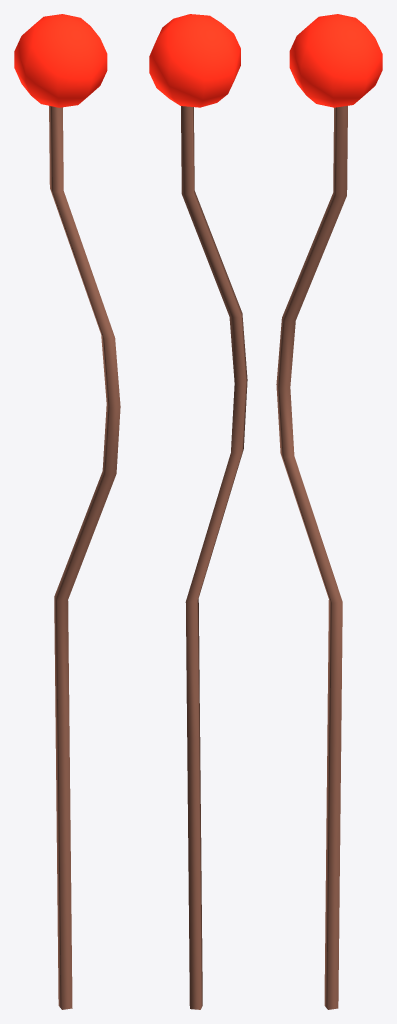
File: SpinMushR2_l.fbx
3 renders of one model, left to right at view 1: azimuth 90°, elevation 25°; view 2: azimuth 150°, elevation 25°; view 3: azimuth 270°, elevation 25°, orthographic.
Visible parts, largest first — view 1: BezierCurve.005; view 2: BezierCurve.005; view 3: BezierCurve.005.
Part boxes in pixels (<box>): BezierCurve.005: <box>14,14,120,1009</box>; BezierCurve.005: <box>149,14,247,1009</box>; BezierCurve.005: <box>276,14,382,1009</box>.
Size of the model in its own units: 35.87 by 40.97 by 421.
